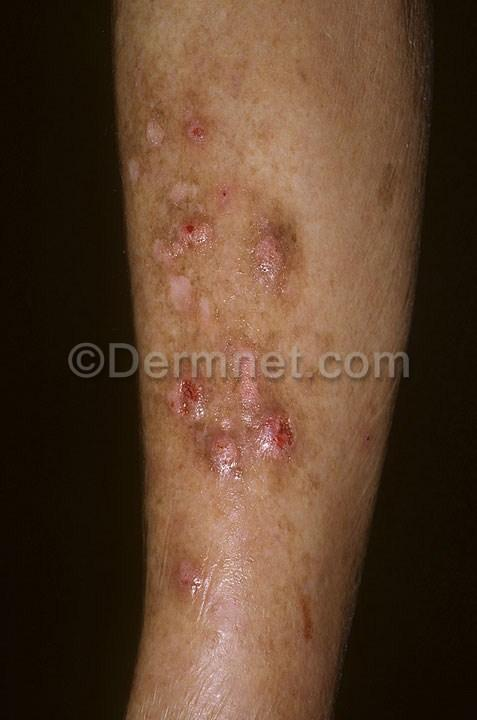Eczema: (181, 377, 324, 542), (142, 34, 288, 181), (107, 173, 237, 312), (236, 189, 325, 321), (152, 552, 218, 614)
